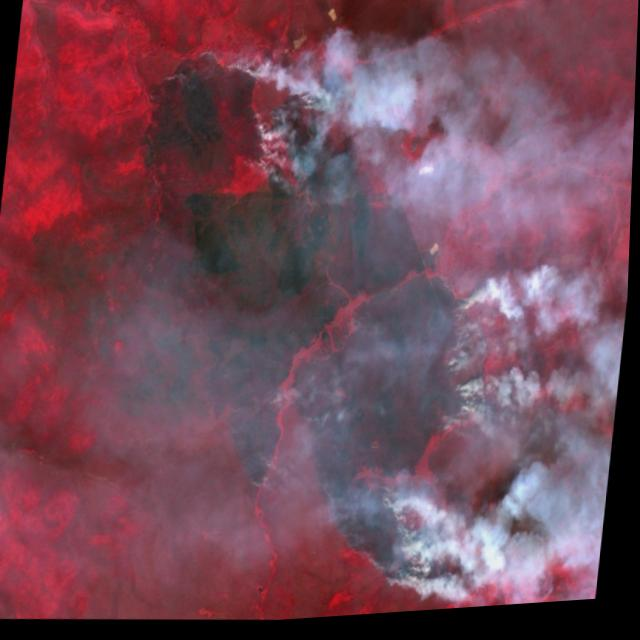fire: (222, 259, 497, 607), (134, 41, 332, 195)
